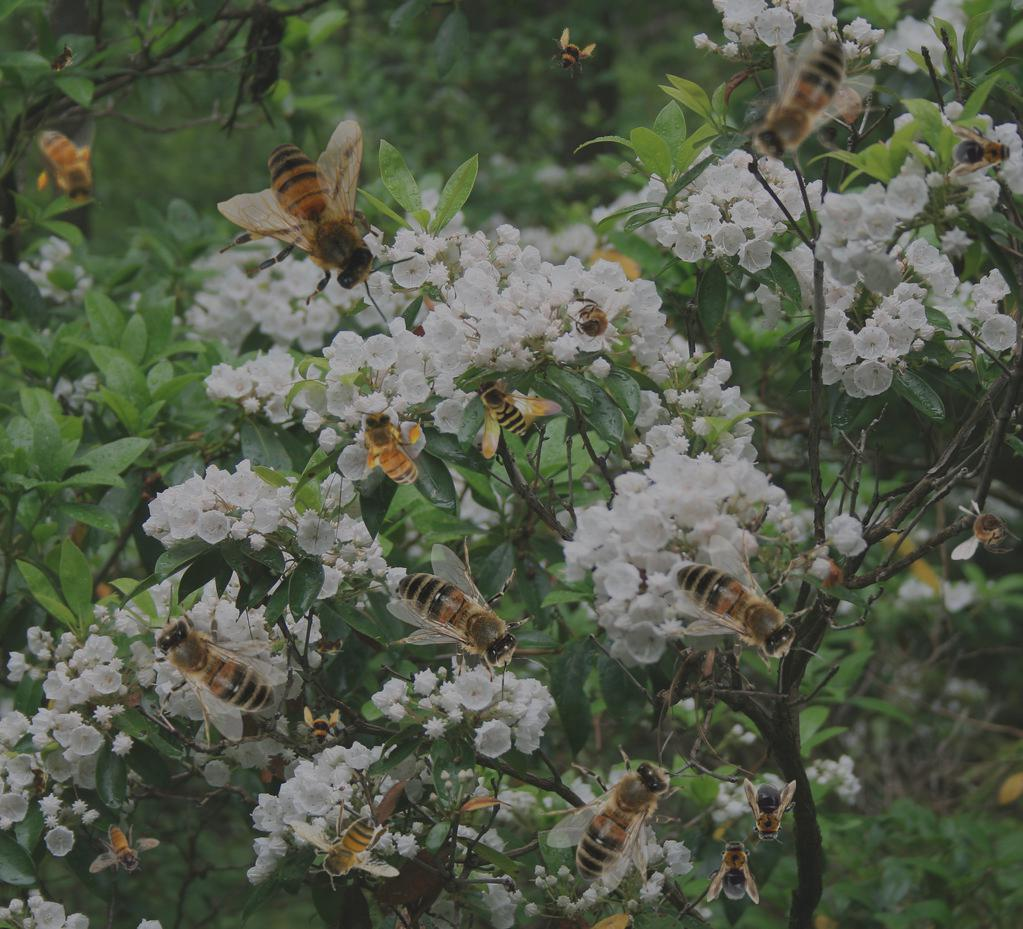Bee: (217, 119, 416, 323), (386, 535, 548, 702), (664, 526, 826, 693), (126, 583, 288, 750), (538, 731, 705, 893), (718, 29, 885, 191), (289, 797, 400, 891), (475, 377, 563, 459), (356, 405, 424, 498), (33, 117, 101, 210), (561, 291, 631, 352), (951, 499, 1021, 560), (540, 23, 600, 83), (89, 824, 160, 874), (707, 836, 759, 904), (948, 125, 1016, 177), (744, 778, 796, 846), (38, 38, 84, 82), (297, 706, 341, 750), (308, 634, 348, 656), (27, 762, 49, 802)
